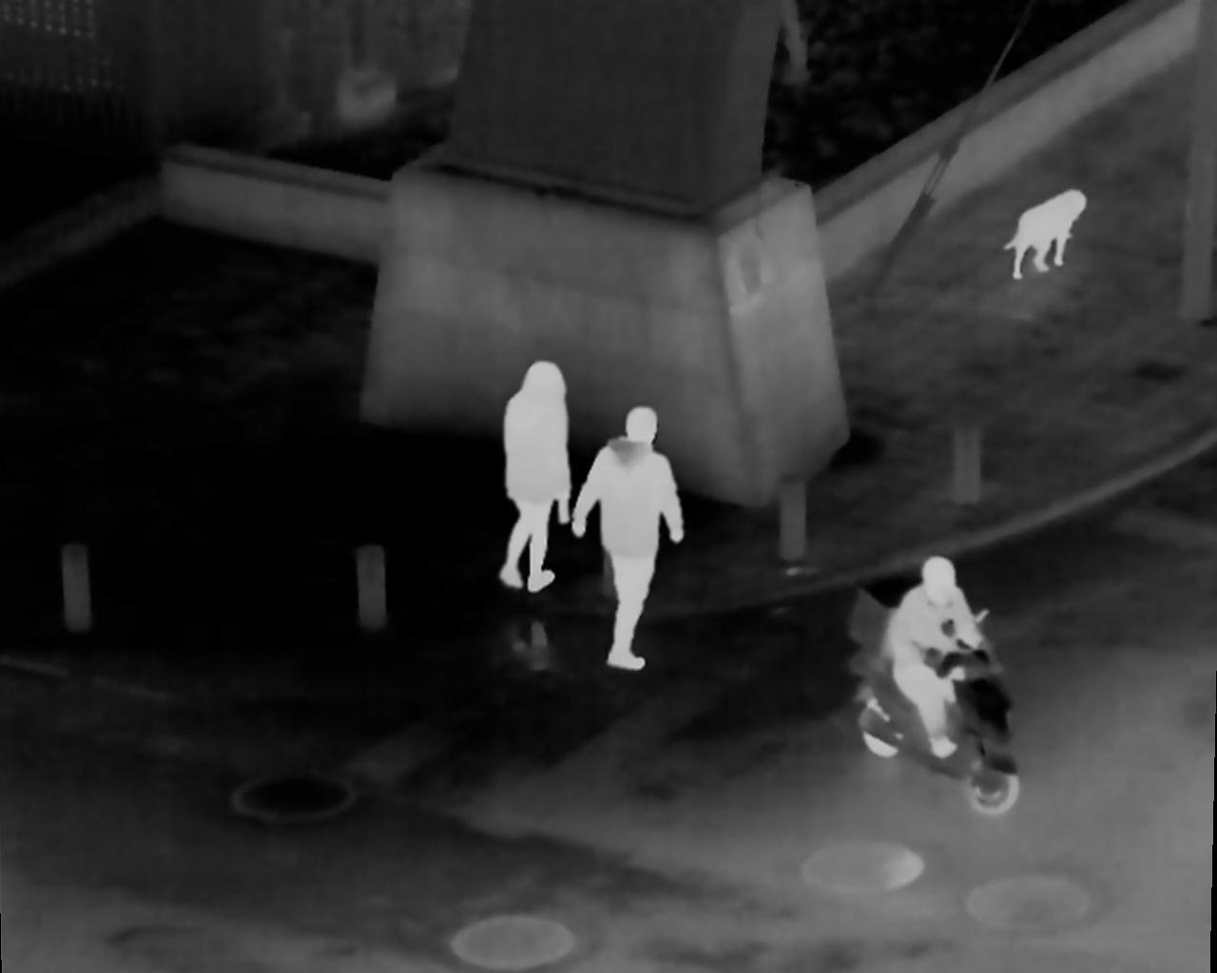person: (574, 410, 693, 673), (879, 553, 986, 752), (503, 360, 570, 587)
